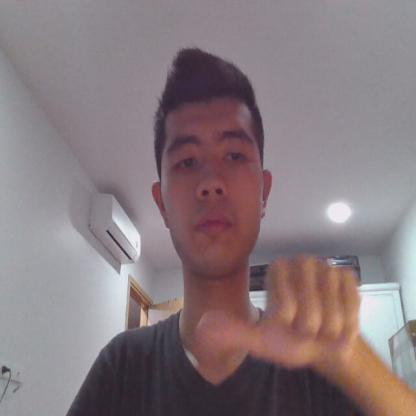right: (194, 254, 360, 372)
